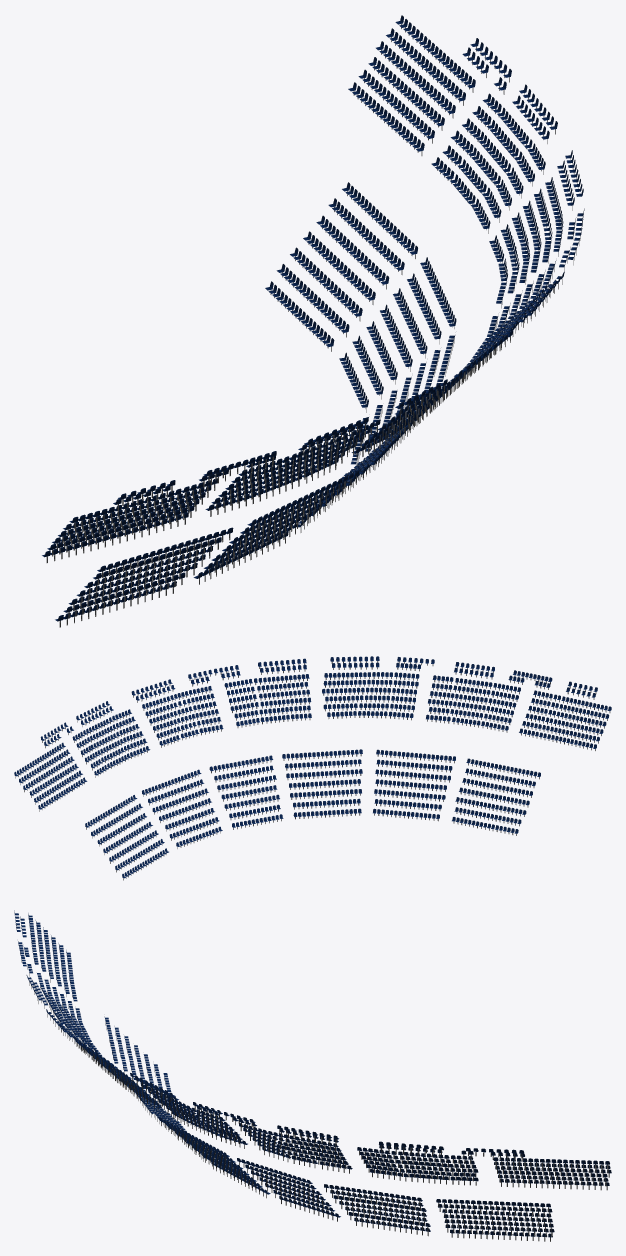
File: sillas_LOD1.FBX
The picture shows the model from 3 angles, top to bottom: view 1: azimuth 30°, elevation 25°; view 2: azimuth 150°, elevation 25°; view 3: azimuth 270°, elevation 25°; orthographic projection. The views are drawn at different scales.
Visible parts, largest first — view 1: sillas_LOD1_01, sillas_LOD1_07, sillas_LOD1_08, sillas_LOD1_13, sillas_LOD1_06, sillas_LOD1_12, sillas_LOD1_02, sillas_LOD1_09, sillas_LOD1_05, sillas_LOD1_11, sillas_LOD1_10, sillas_LOD1_03 (+1 smaller); view 2: sillas_LOD1_11, sillas_LOD1_12, sillas_LOD1_10, sillas_LOD1_13, sillas_LOD1_09, sillas_LOD1_04, sillas_LOD1_05, sillas_LOD1_06, sillas_LOD1_08, sillas_LOD1_01, sillas_LOD1_02, sillas_LOD1_03 (+1 smaller); view 3: sillas_LOD1_08, sillas_LOD1_01, sillas_LOD1_07, sillas_LOD1_09, sillas_LOD1_02, sillas_LOD1_10, sillas_LOD1_03, sillas_LOD1_13, sillas_LOD1_12, sillas_LOD1_04, sillas_LOD1_11, sillas_LOD1_06 (+1 smaller).
Boxes of the visible parts, x1,y1,x2,y2 form: sillas_LOD1_01: (265, 182, 417, 351); sillas_LOD1_07: (348, 15, 506, 155); sillas_LOD1_08: (431, 69, 557, 233); sillas_LOD1_13: (42, 463, 233, 562); sillas_LOD1_06: (55, 527, 233, 627); sillas_LOD1_12: (205, 417, 380, 516); sillas_LOD1_02: (339, 257, 456, 412); sillas_LOD1_09: (489, 150, 584, 308); sillas_LOD1_05: (193, 470, 359, 584); sillas_LOD1_11: (351, 330, 513, 459); sillas_LOD1_10: (454, 238, 579, 381); sillas_LOD1_03: (351, 335, 455, 465); sillas_LOD1_11: (322, 656, 434, 720); sillas_LOD1_12: (426, 662, 536, 732); sillas_LOD1_10: (219, 658, 311, 727); sillas_LOD1_13: (519, 675, 611, 750); sillas_LOD1_09: (131, 668, 223, 747); sillas_LOD1_04: (282, 749, 362, 819); sillas_LOD1_05: (373, 749, 455, 821); sillas_LOD1_06: (452, 758, 540, 835); sillas_LOD1_08: (64, 701, 150, 777); sillas_LOD1_01: (85, 795, 168, 880); sillas_LOD1_02: (142, 769, 222, 848); sillas_LOD1_03: (209, 755, 283, 829); sillas_LOD1_08: (357, 1141, 478, 1185); sillas_LOD1_01: (436, 1199, 554, 1241); sillas_LOD1_07: (473, 1148, 611, 1190); sillas_LOD1_09: (217, 1110, 352, 1173); sillas_LOD1_02: (324, 1184, 430, 1236); sillas_LOD1_10: (130, 1073, 247, 1148); sillas_LOD1_03: (237, 1158, 340, 1221); sillas_LOD1_13: (14, 910, 77, 1001); sillas_LOD1_12: (20, 952, 102, 1056); sillas_LOD1_04: (159, 1117, 270, 1198); sillas_LOD1_11: (46, 1009, 161, 1110); sillas_LOD1_06: (104, 1016, 171, 1105).
Bounding box in the file's own units: 6891 × 1932 × 6862.
